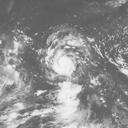cyclone: (52, 54, 76, 77)
